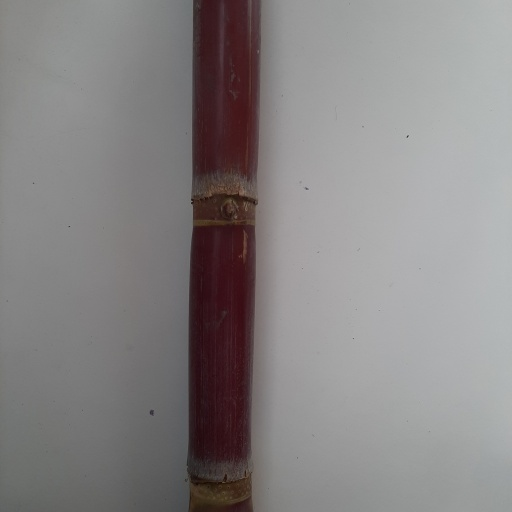Bud: (220, 198, 238, 222)
